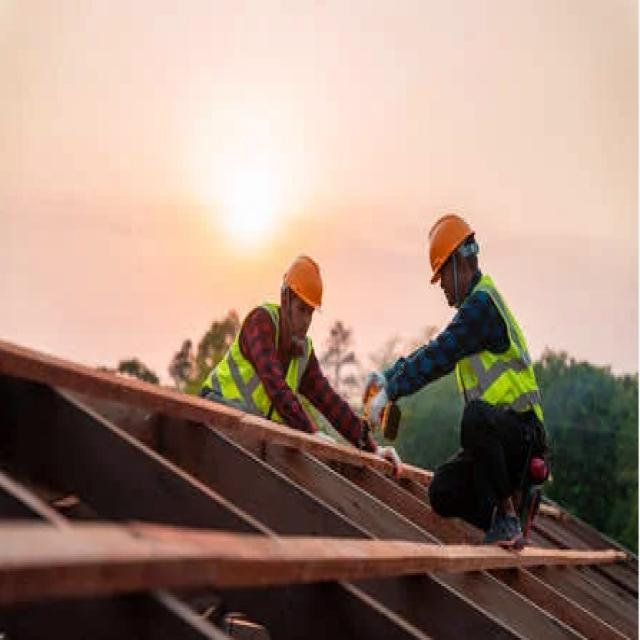boots: (474, 476, 549, 555)
helmet: (417, 207, 484, 304), (280, 252, 326, 340)
vest: (433, 275, 550, 439), (195, 298, 318, 426)
